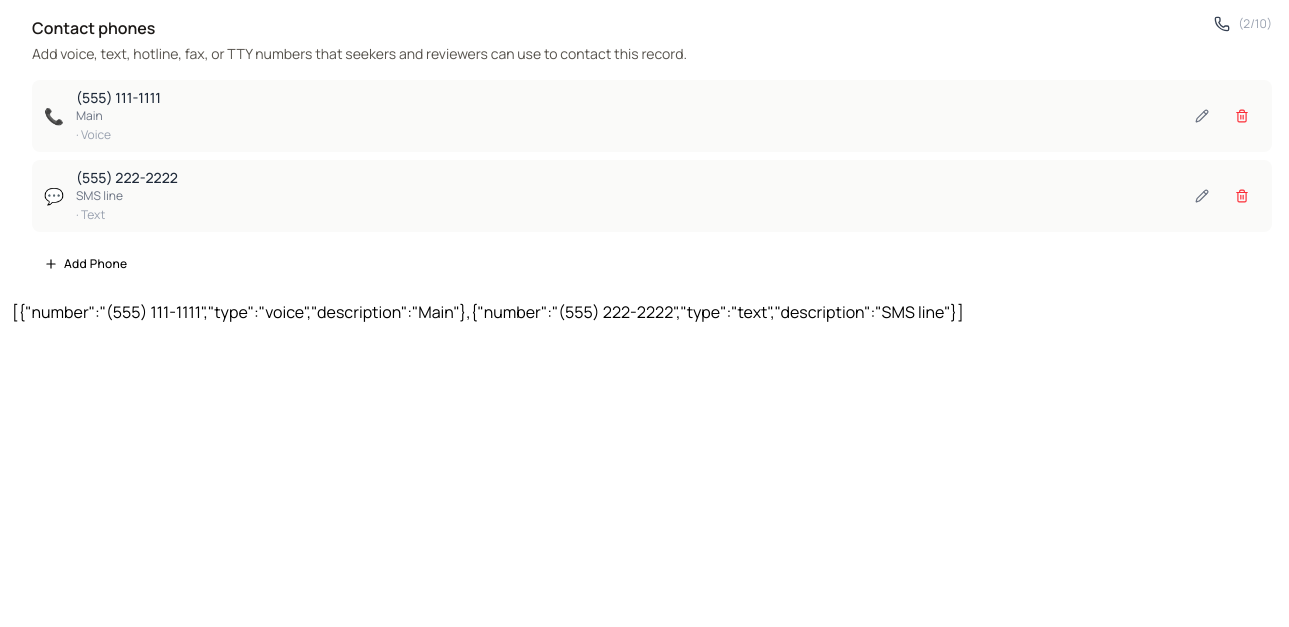
PhoneEditor › edits and removes existing phone entries
The width and height of the screenshot is (1289, 627).
Click the button named "Edit phone (555) 111-1111" at x=1202, y=116, box [1184, 98, 1220, 134]
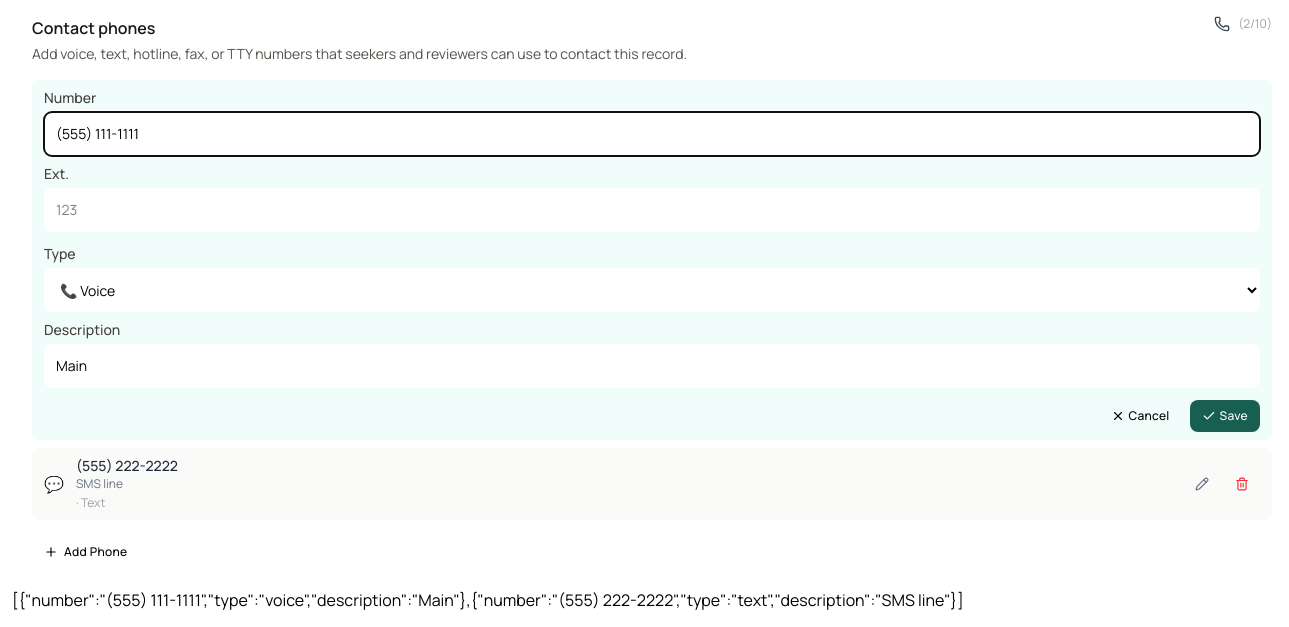
Replace the text in the field labelled "Number" with "  (555) 333-3333 " at x=652, y=134, box [44, 112, 1260, 156]
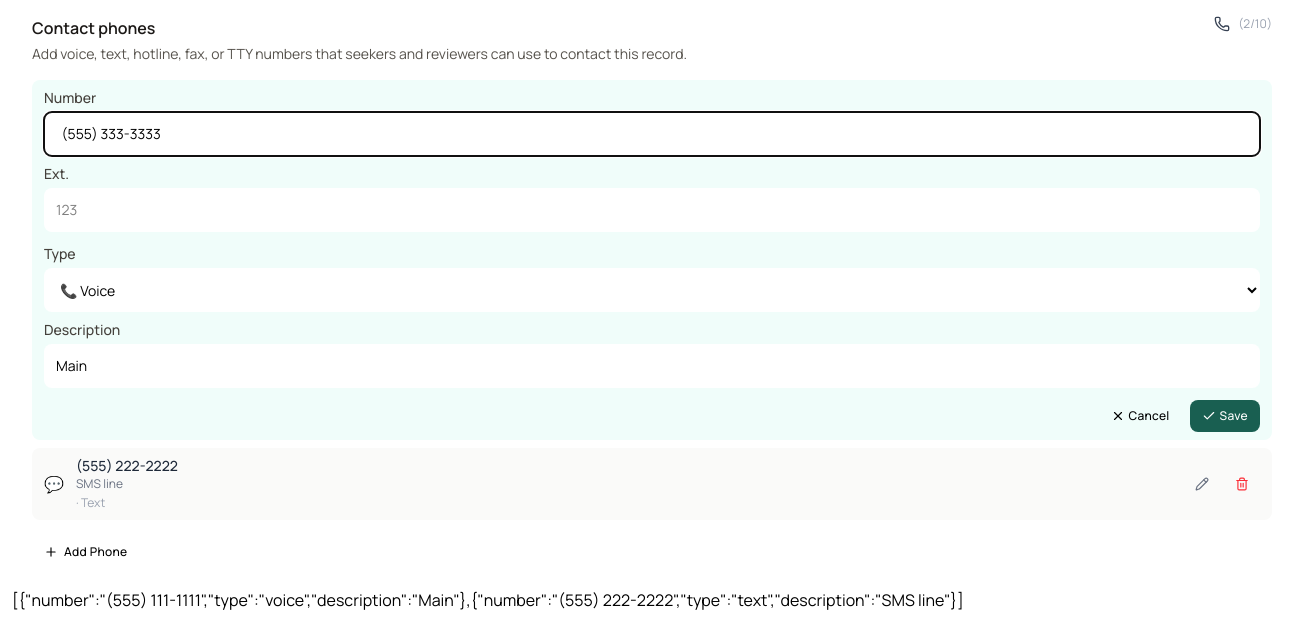
Click the button "Save" at x=1225, y=416, box [1190, 400, 1260, 432]
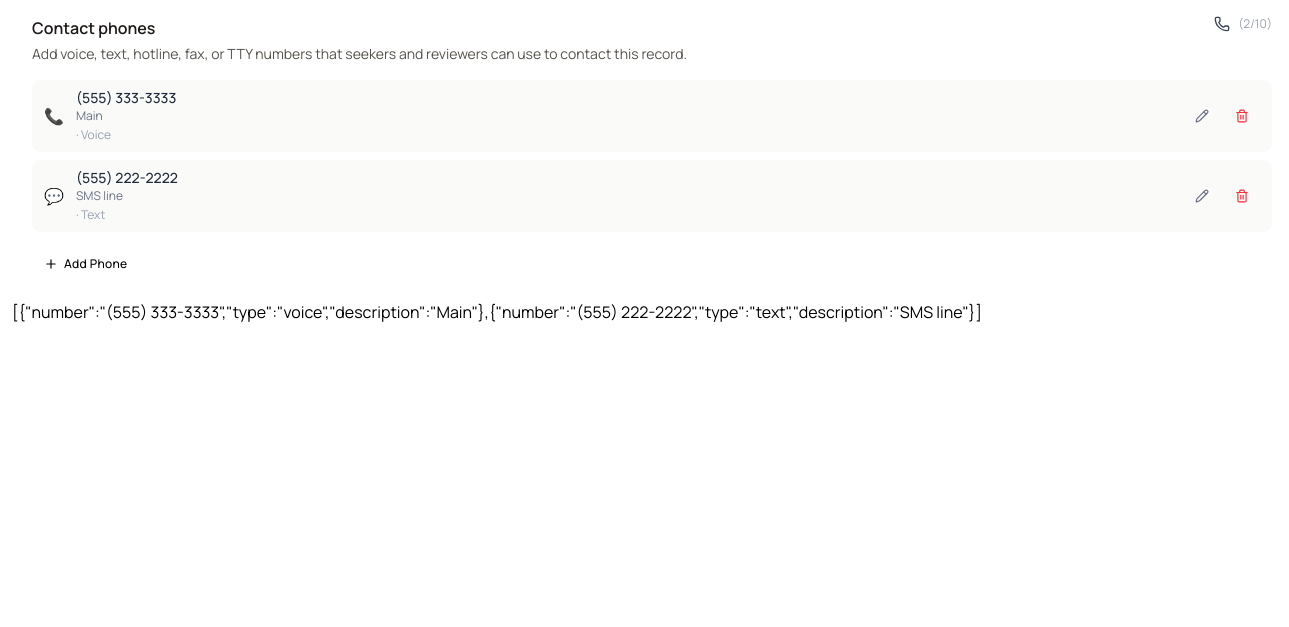
Now the text with test id "phones-json" shows "(555) 333-3333", box [12, 301, 982, 323]
Now the text with test id "phones-json" no longer shows "(555) 111-1111"
Click the button named "Remove phone (555) 222-2222" at x=1242, y=196, box [1224, 178, 1260, 214]
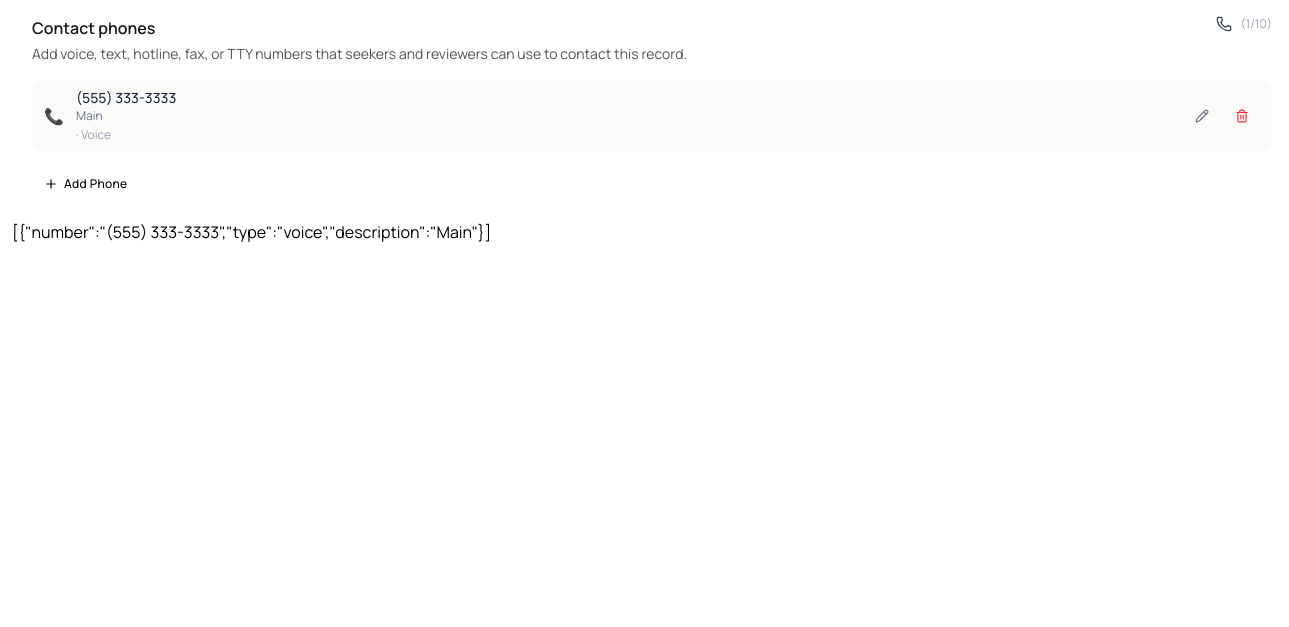
Now the text with test id "phones-json" shows "(555) 333-3333", box [12, 221, 491, 243]
Now the text with test id "phones-json" no longer shows "(555) 222-2222"
